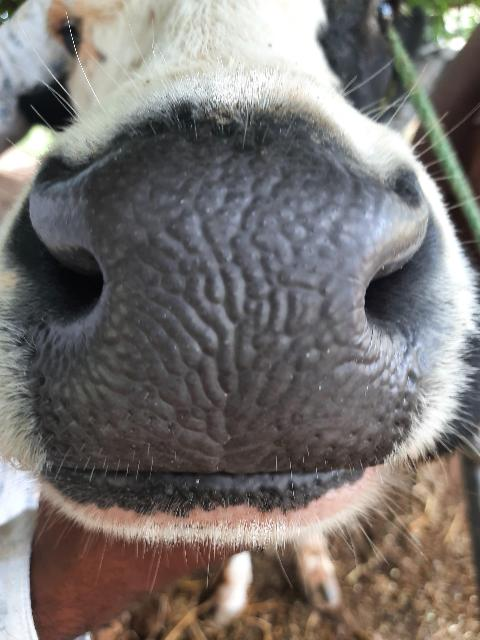Muzzle: (88, 166, 374, 432)
